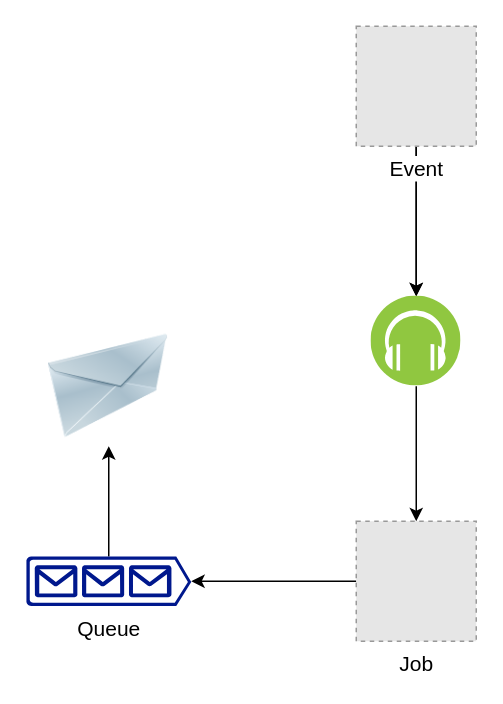
Some shapes in this 503 by 704 pixel diagram are drawn without their labels. Grey dashed boxes stand in for pictures. Each missing label, with the centre of its shape:
Listener: (415,341)
One by one Job: (108,386)
